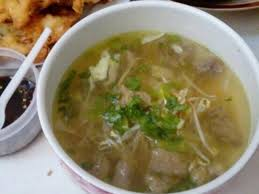soto: (40, 12, 255, 193)
